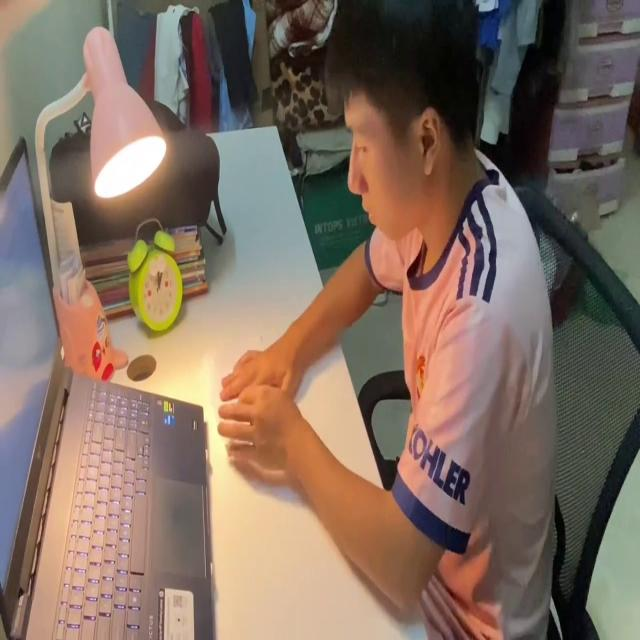laptop: (1, 135, 215, 640)
student: (218, 2, 560, 640)
